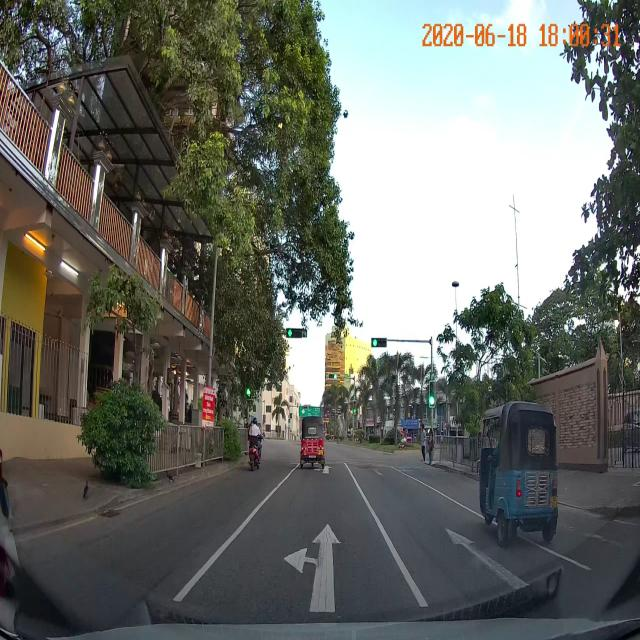forward_lft: (168, 507, 431, 611), (188, 526, 418, 584)
